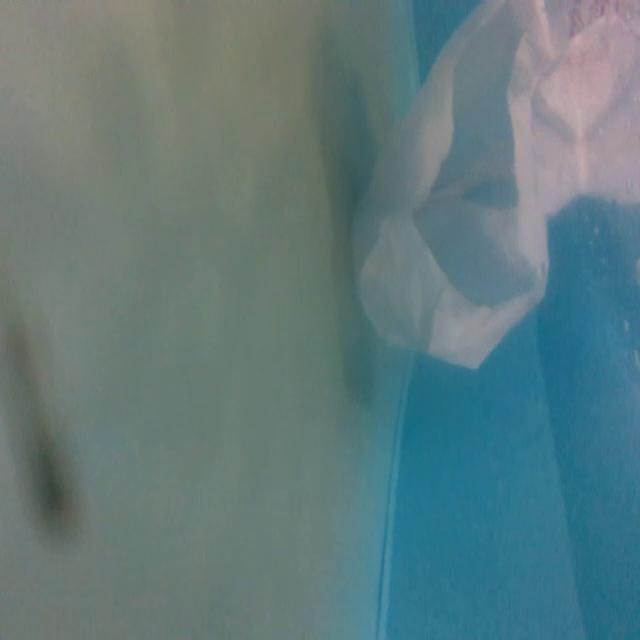plastic bags: (348, 2, 640, 377)
